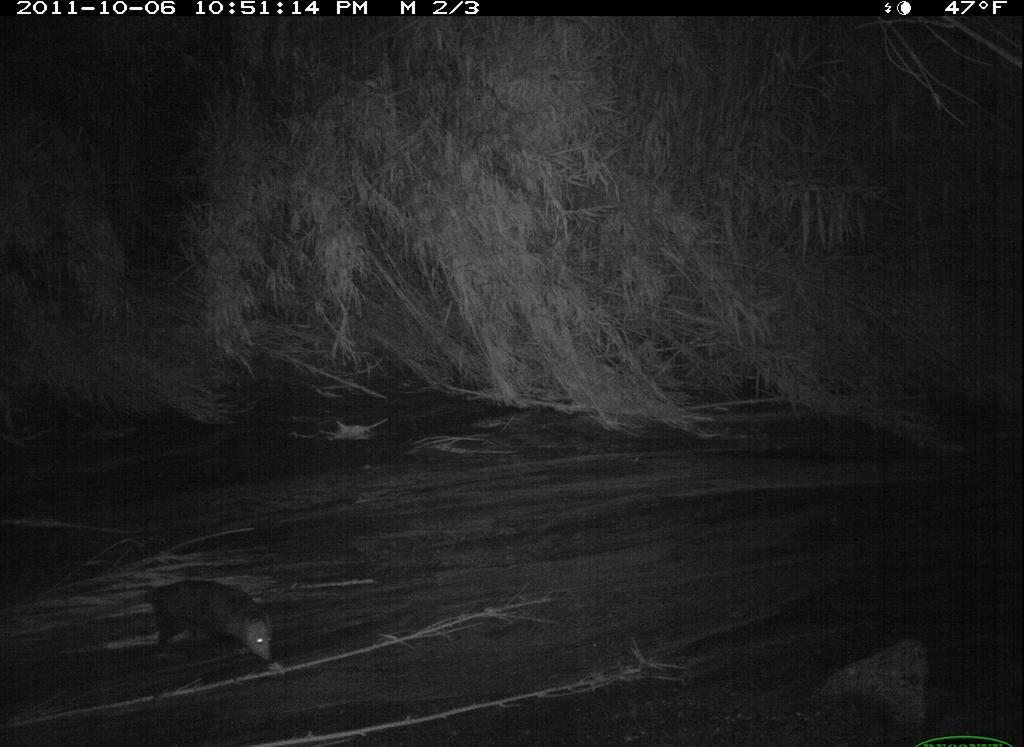opossum: (71, 571, 282, 692)
